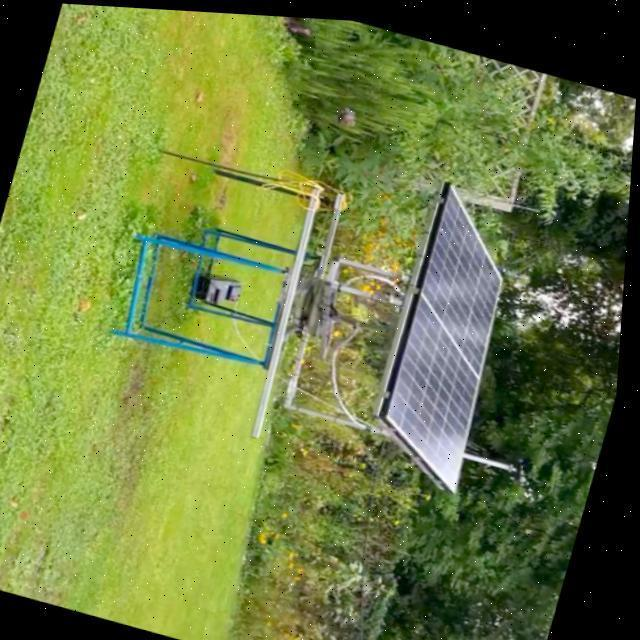Normal Solar Panel: (368, 173, 538, 488)
